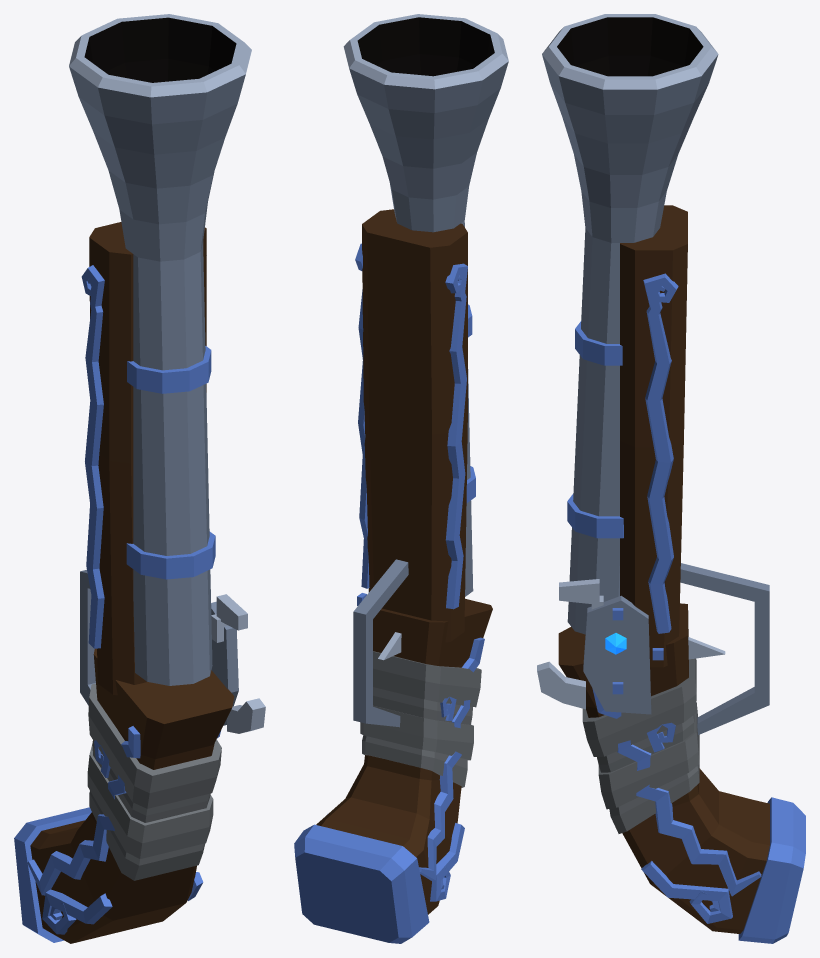
File: gun_rare.glb
3 views of the same model, side by side, from view 1: azimuth 30°, elevation 25°; view 2: azimuth 150°, elevation 25°; view 3: azimuth 270°, elevation 25° (orthographic). The views are drawn at different scales.
Parts seen in each view (by area): view 1: gun_rare; view 2: gun_rare; view 3: gun_rare.
Part boxes in pixels (<box>): gun_rare: <box>14,14,265,943</box>; gun_rare: <box>294,14,508,943</box>; gun_rare: <box>537,14,805,943</box>.
Size of the model in its own units: 24.73 by 142 by 39.54.
